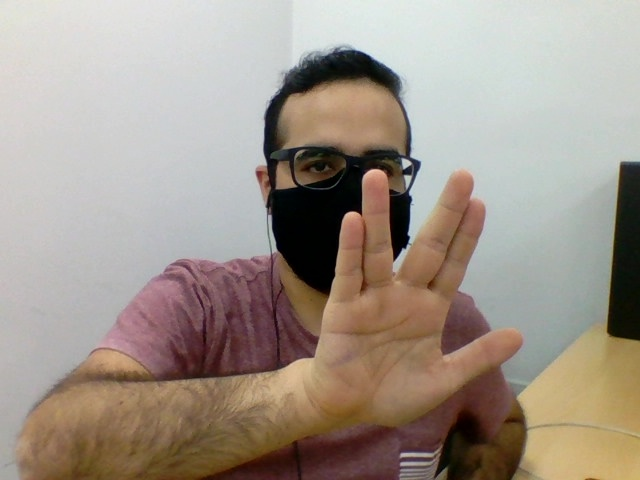LiveLong: (309, 168, 524, 429)
